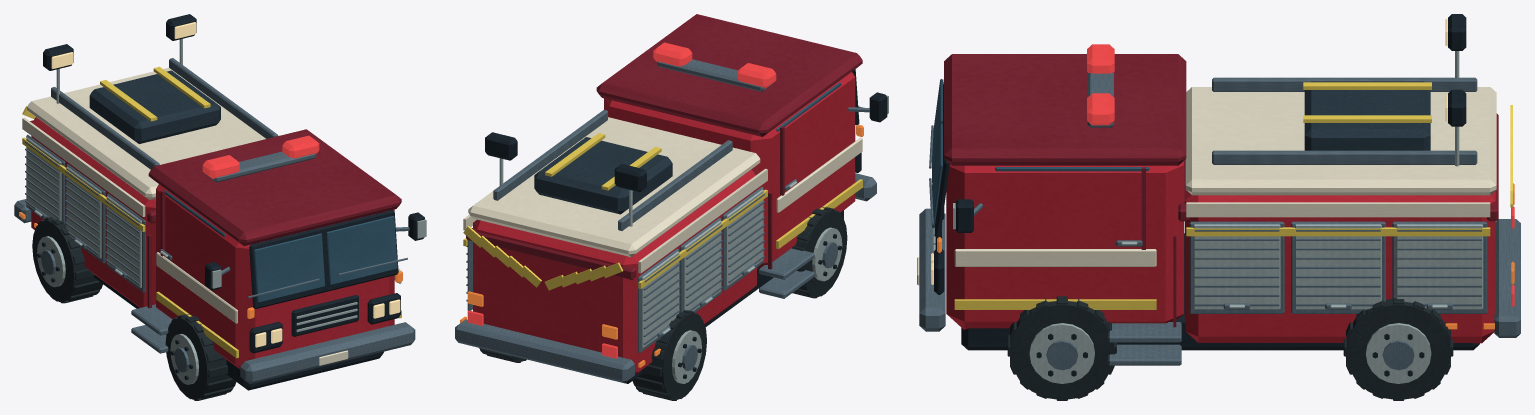
File: response-unit.glb
3 renders of one model, left to right at view 1: azimuth 30°, elevation 25°; view 2: azimuth 150°, elevation 25°; view 3: azimuth 270°, elevation 25°, orthographic. The views are drawn at different scales.
Visible parts, largest first — view 1: response-unit; view 2: response-unit; view 3: response-unit.
Boxes of the visible parts, x1,y1,x2,y2 form: response-unit: (14,14,426,400); response-unit: (455,14,888,400); response-unit: (917,14,1520,400).
Bounding box in the file's own units: 2.73 × 2.77 × 5.26.
Materials: 4 (4 with a texture image).
